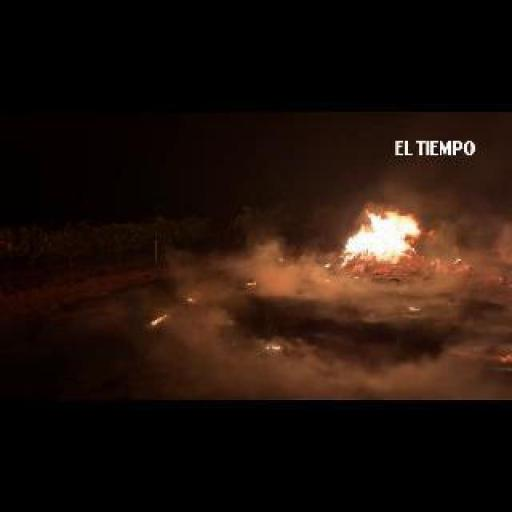smoke: (318, 328, 496, 398), (256, 228, 342, 312), (330, 203, 419, 266), (148, 316, 166, 326), (245, 278, 256, 285), (270, 344, 285, 349), (323, 261, 330, 269), (187, 294, 194, 301)
